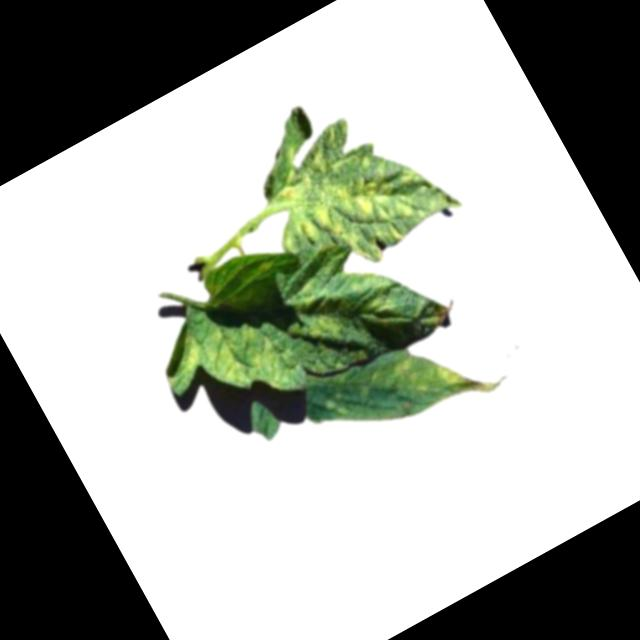Leaf_Mold: (239, 86, 467, 299), (153, 300, 296, 437), (378, 318, 505, 433)
